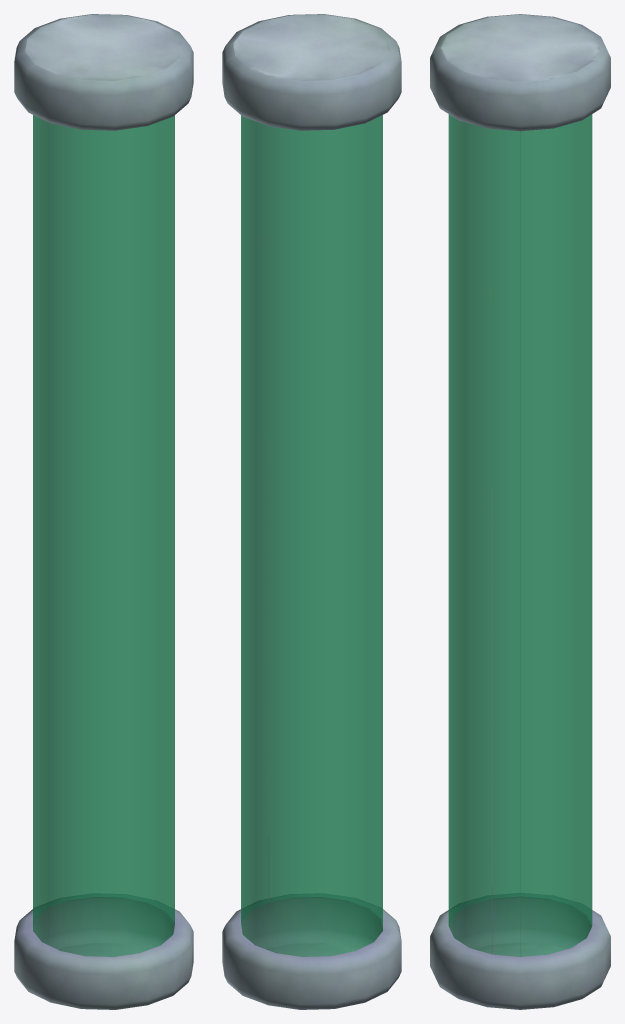
The model's file is Intact_Pipes.glb.
The picture shows the model from 3 angles, left to right: view 1: azimuth 30°, elevation 25°; view 2: azimuth 150°, elevation 25°; view 3: azimuth 270°, elevation 25°; orthographic projection.
Visible parts, largest first — view 1: Intact_Pipe; view 2: Intact_Pipe; view 3: Intact_Pipe.
Part boxes in pixels (x1,y1,x2,y2): Intact_Pipe: (14,14,193,1009); Intact_Pipe: (222,14,401,1009); Intact_Pipe: (430,14,610,1009).
Size of the model in its own units: 0.2226 by 1.26 by 0.2226.
Materials: 1 (1 with a texture image).
